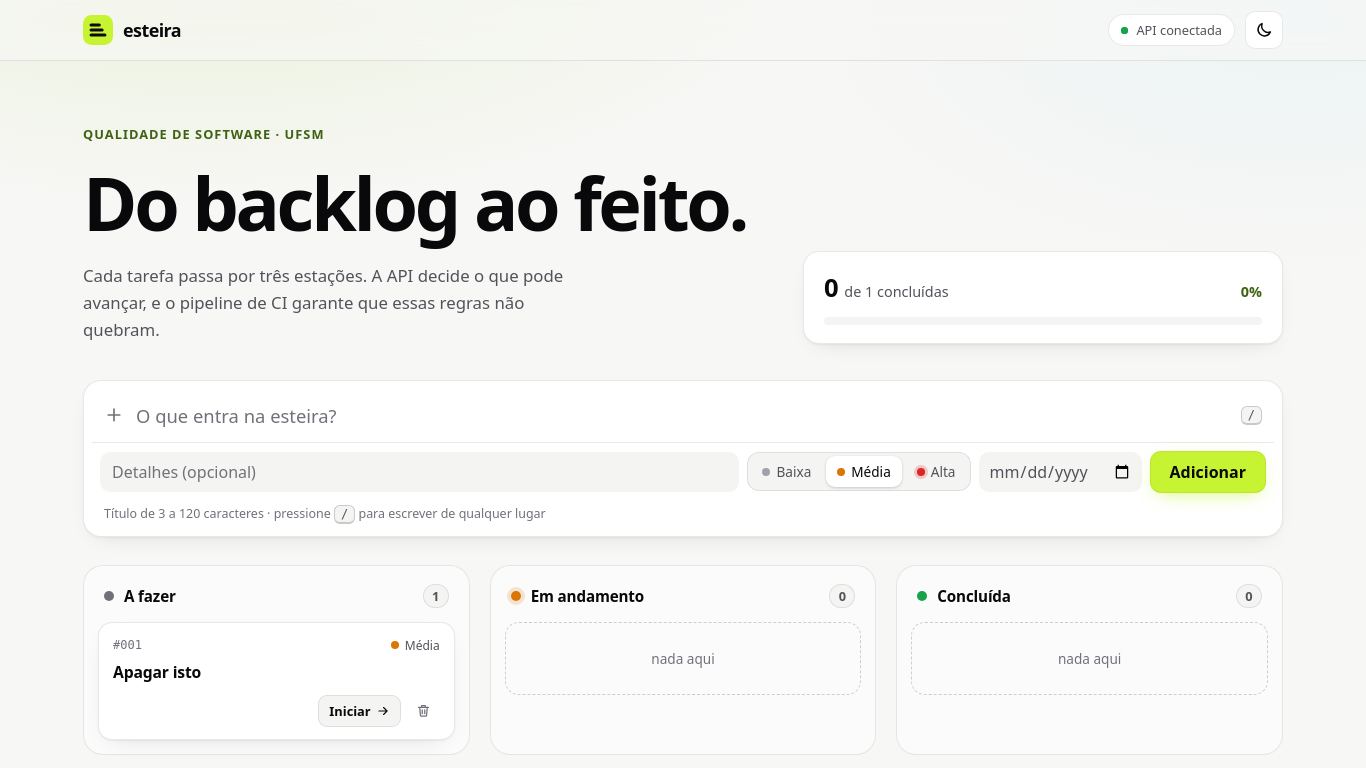
Test: App › exclui uma tarefa
Step 1. Click the button named "Excluir Apagar isto" → click(423, 711), box left=407, top=696, right=440, bottom=725
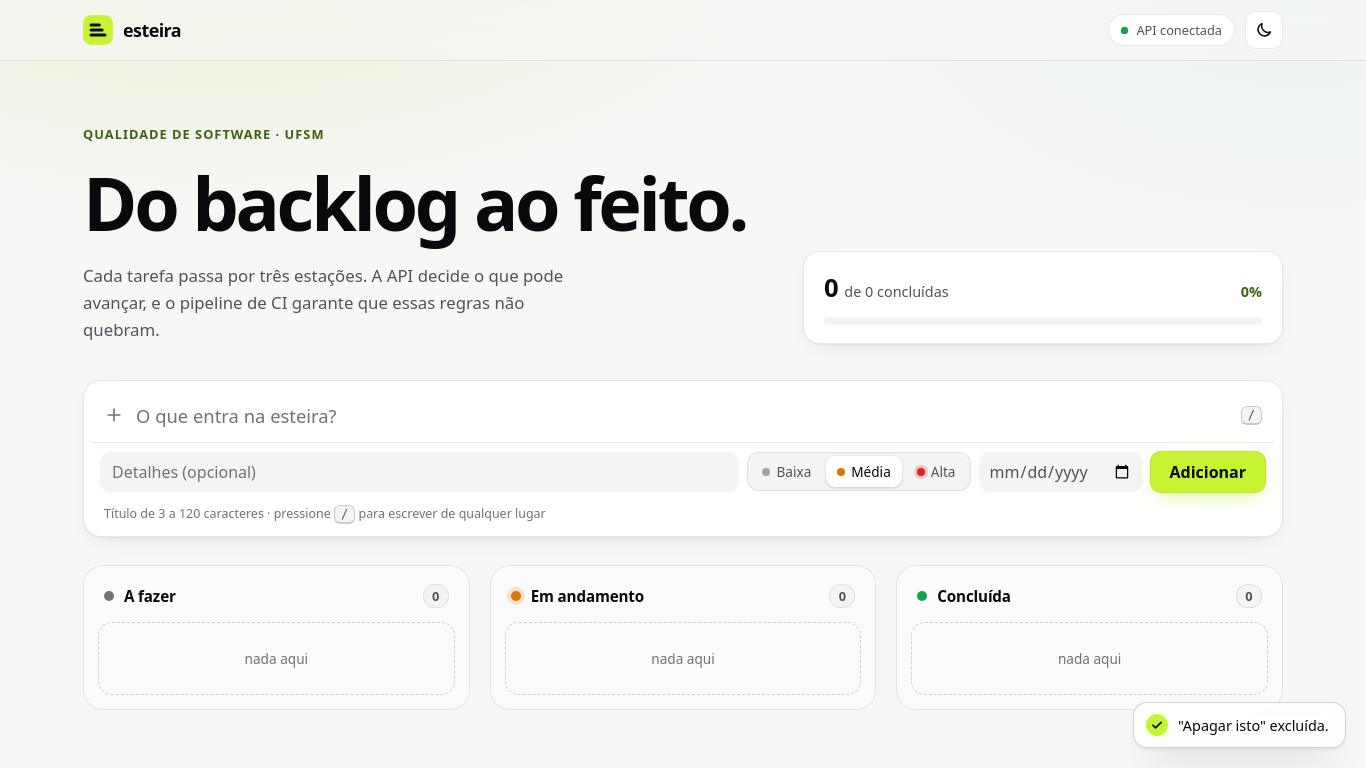
Check: the element showing "\"Apagar isto\" excluída." reads "\"Apagar isto\" excluída.", box left=1178, top=716, right=1329, bottom=734
